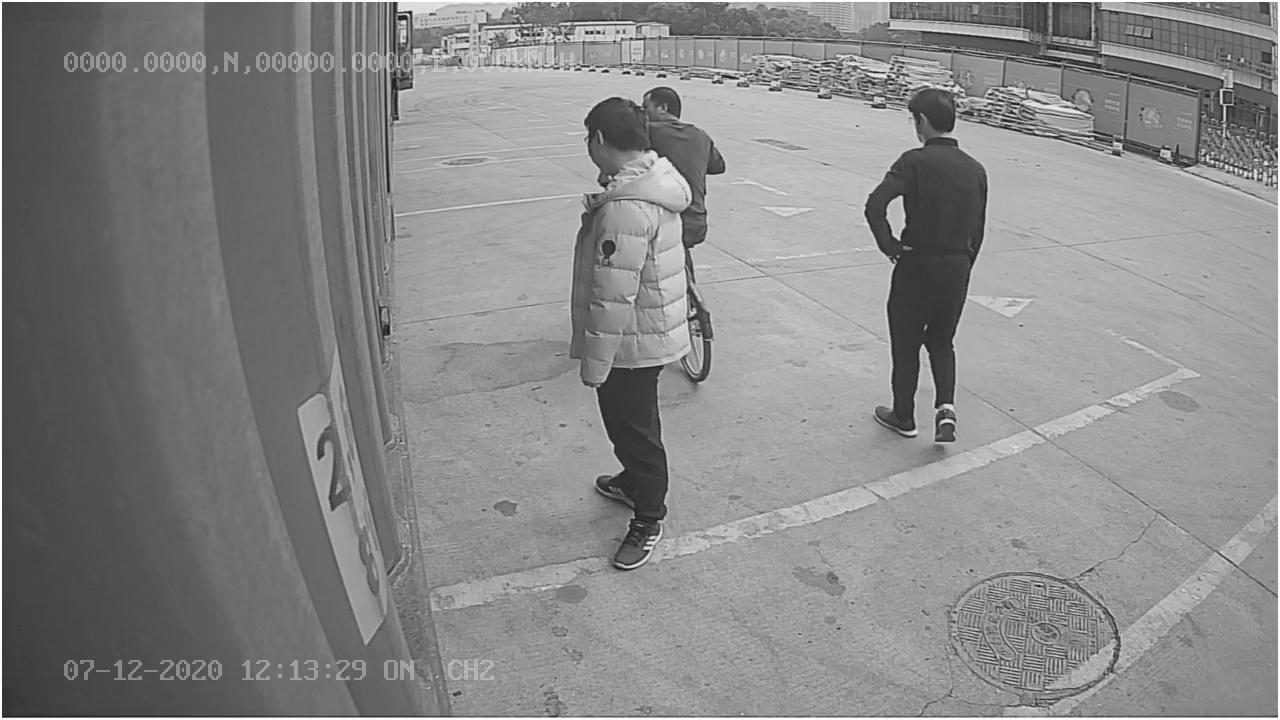person: (863, 85, 987, 447)
